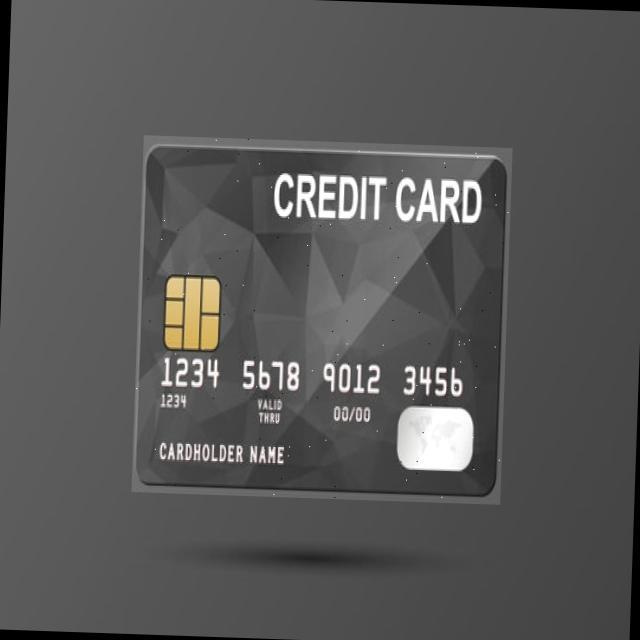payment_card: (132, 134, 512, 501)
